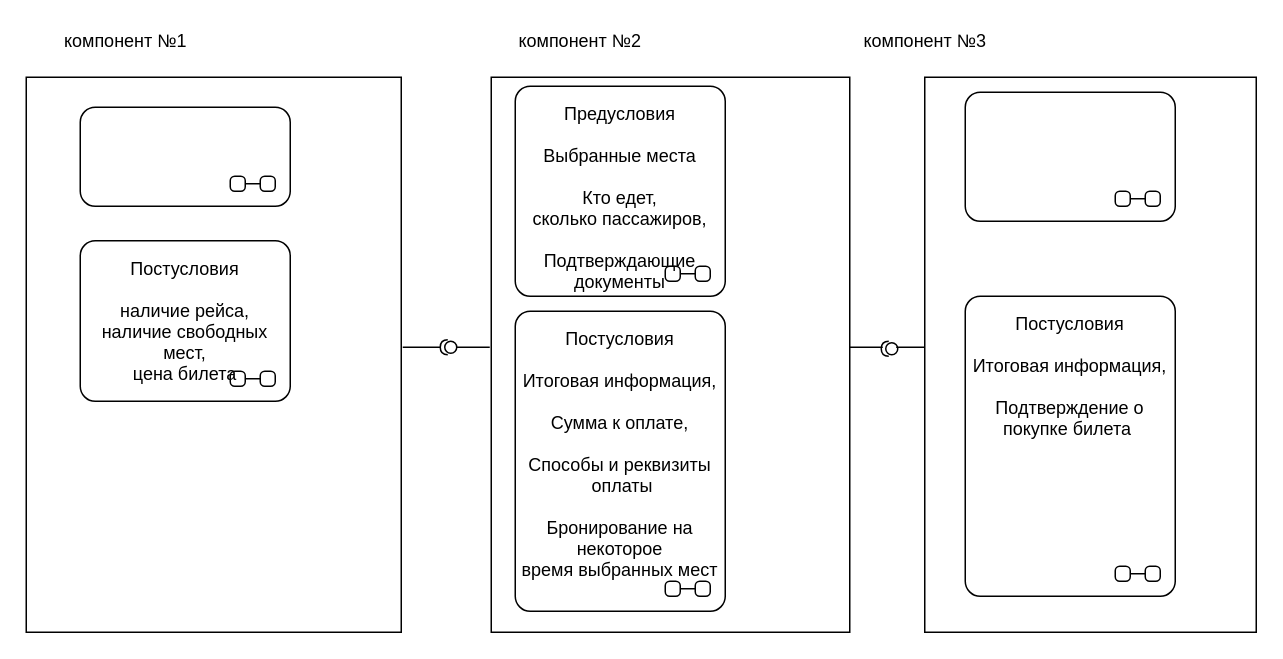
Some shapes in this 1283 by 659 pixel diagram are drawn without their labels. Each missing label, with the centre of its shape:
Предусловия Дата, время, рейс: the point at 184,156
Предусловия Код оплаты Результат оплаты: the point at 1069,156
